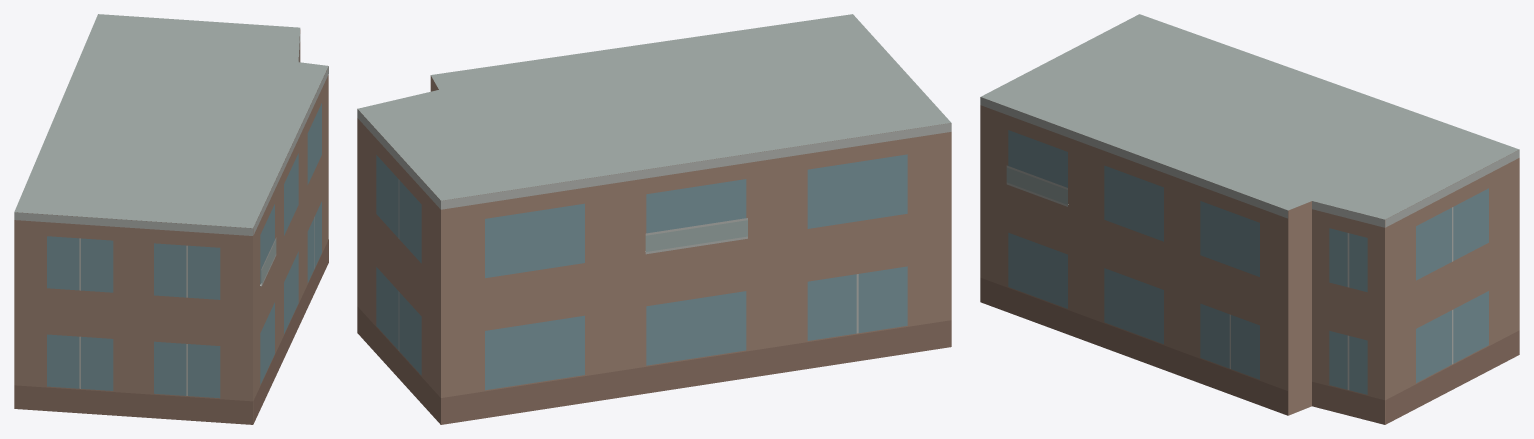
The model's file is survey-upis-32623394.glb.
The picture shows the model from 3 angles, left to right: view 1: azimuth 30°, elevation 25°; view 2: azimuth 150°, elevation 25°; view 3: azimuth 270°, elevation 25°; orthographic projection. The views are drawn at different scales.
Visible parts, largest first — view 1: survey-upis-32623394.tmp; view 2: survey-upis-32623394.tmp; view 3: survey-upis-32623394.tmp.
Part boxes in pixels (<box>): survey-upis-32623394.tmp: <box>14,14,328,424</box>; survey-upis-32623394.tmp: <box>357,14,951,424</box>; survey-upis-32623394.tmp: <box>980,14,1519,424</box>.
Size of the model in its own units: 13.12 by 6.1 by 14.53.
